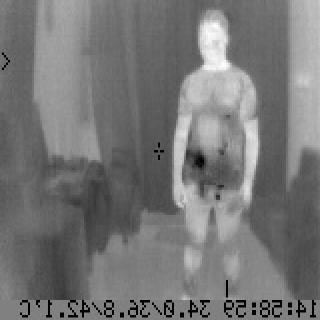Gun: (182, 148, 206, 200)
